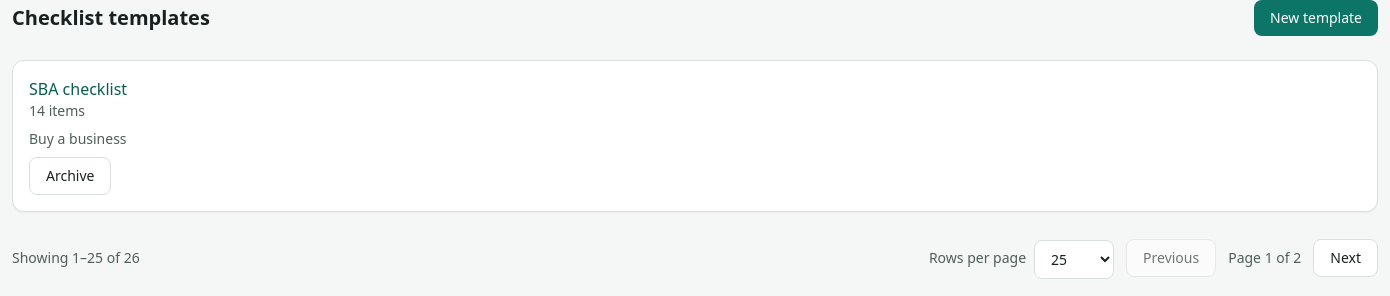
Test: TemplatesPage › pages through the templates and keeps the page in the URL
Check: the text "Page 1 of 2" is shown, box [1228,248,1301,268]
Check: the button "Previous" is disabled, box [1126,238,1216,276]
Click the button "Next": (1346, 258) [1313,238,1378,276]
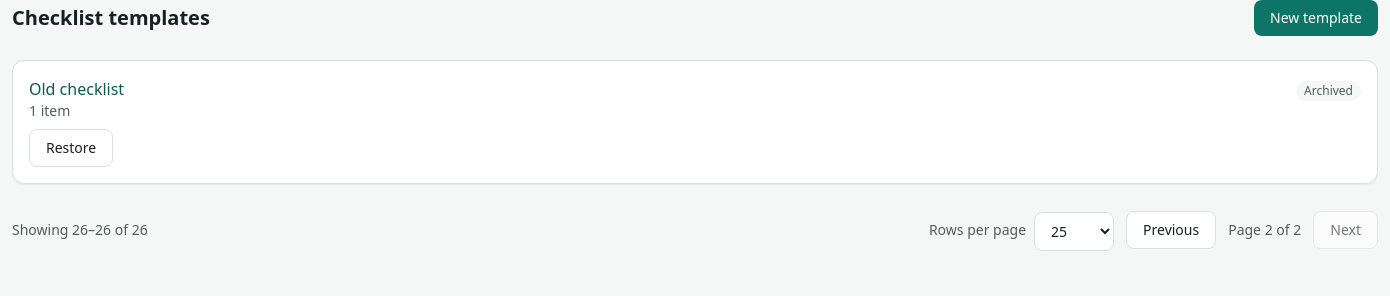
Check: the text "Page 2 of 2" is shown, box [1228,220,1301,240]
Check: the link "Old checklist" is shown, box [29,78,124,100]
Check: the button "Next" is disabled, box [1313,210,1378,248]
